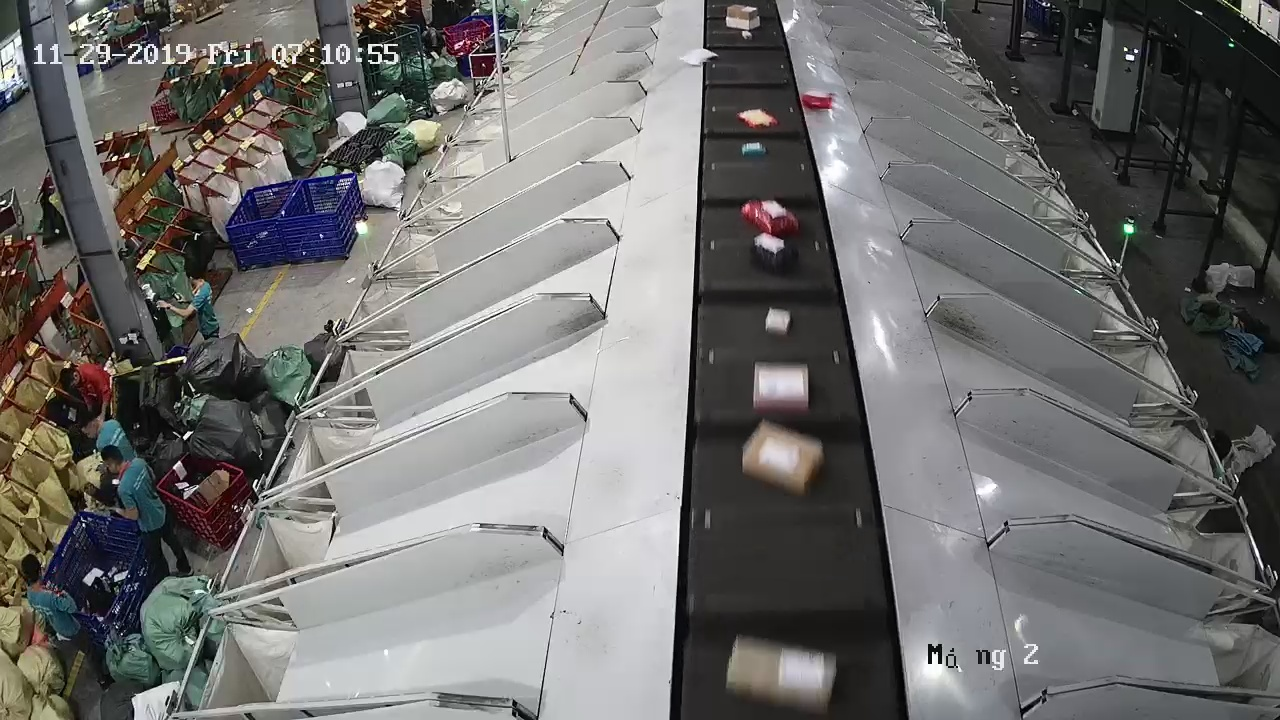parcel: (725, 634, 837, 716), (742, 422, 825, 498), (752, 360, 808, 413), (764, 307, 791, 336), (801, 89, 834, 110)
